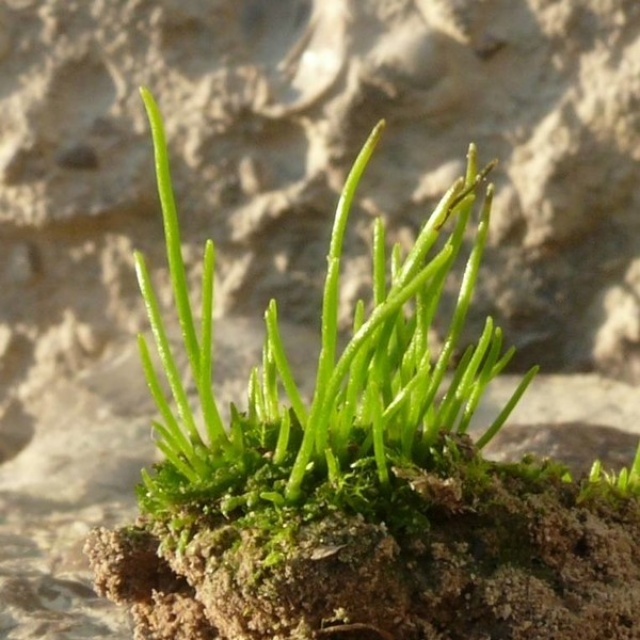obstacle: (95, 79, 562, 516)
